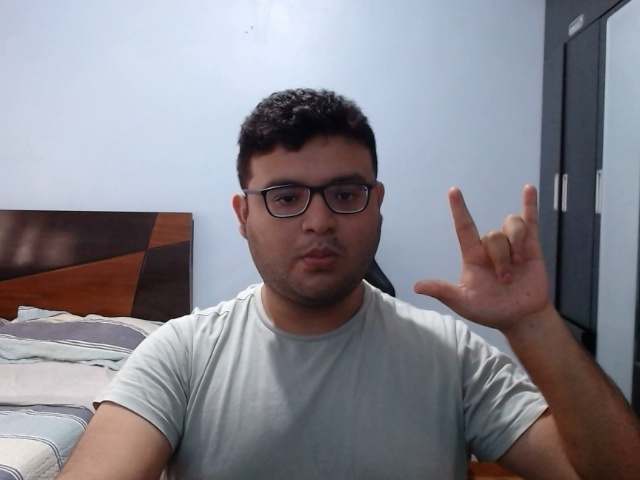I love you: (408, 183, 567, 334)
